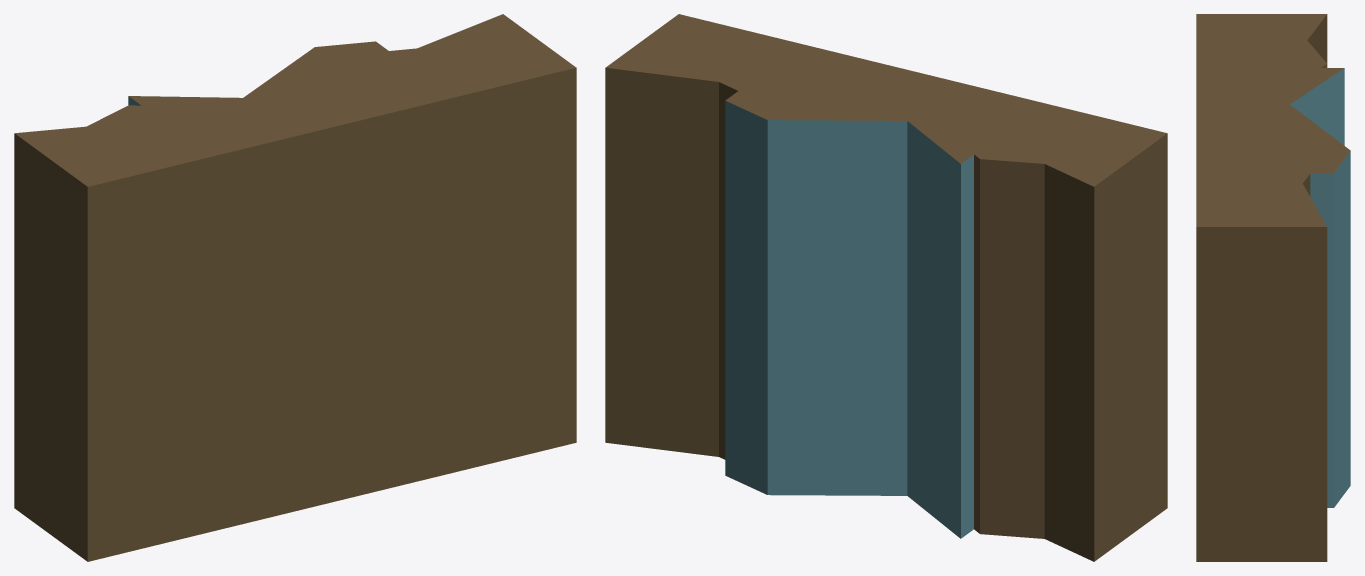
File: Brown_Waterfall_01.obj
The picture shows the model from 3 angles, left to right: view 1: azimuth 30°, elevation 25°; view 2: azimuth 150°, elevation 25°; view 3: azimuth 270°, elevation 25°; orthographic projection. The views are drawn at different scales.
Visible parts, largest first — view 1: Mesh1_Brown_Waterfall_Model; view 2: Mesh1_Brown_Waterfall_Model; view 3: Mesh1_Brown_Waterfall_Model.
Part boxes in pixels (x1,y1,x2,y2): Mesh1_Brown_Waterfall_Model: [14, 14, 576, 561]; Mesh1_Brown_Waterfall_Model: [605, 14, 1167, 561]; Mesh1_Brown_Waterfall_Model: [1196, 14, 1350, 561].
Size of the model in its own units: 3 by 2.2 by 0.92.
